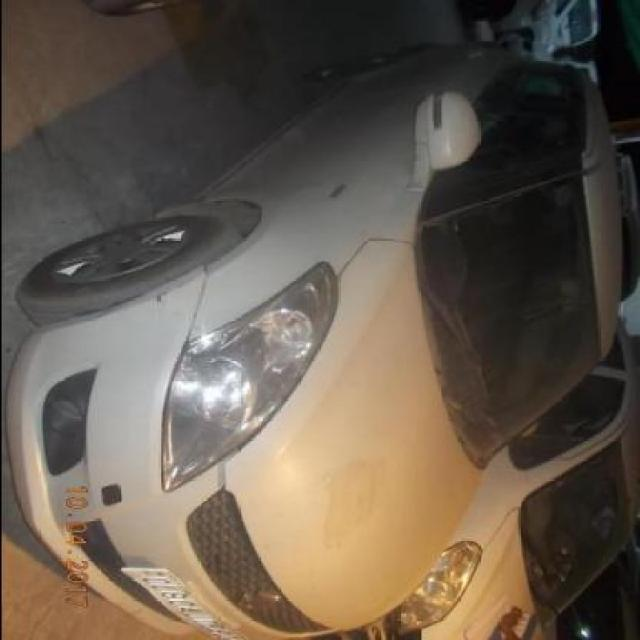damage: (320, 455, 389, 555), (149, 278, 190, 313)
